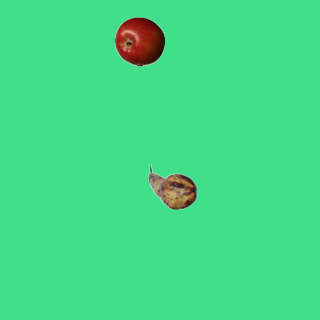Apple Braeburn: (114, 16, 164, 66)
Pear Abate: (147, 162, 197, 212)
